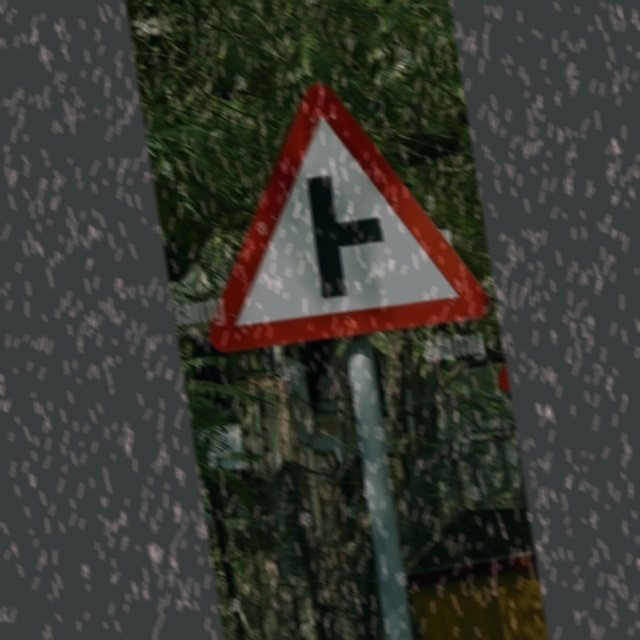Side_Road_Right: (178, 60, 490, 363)
